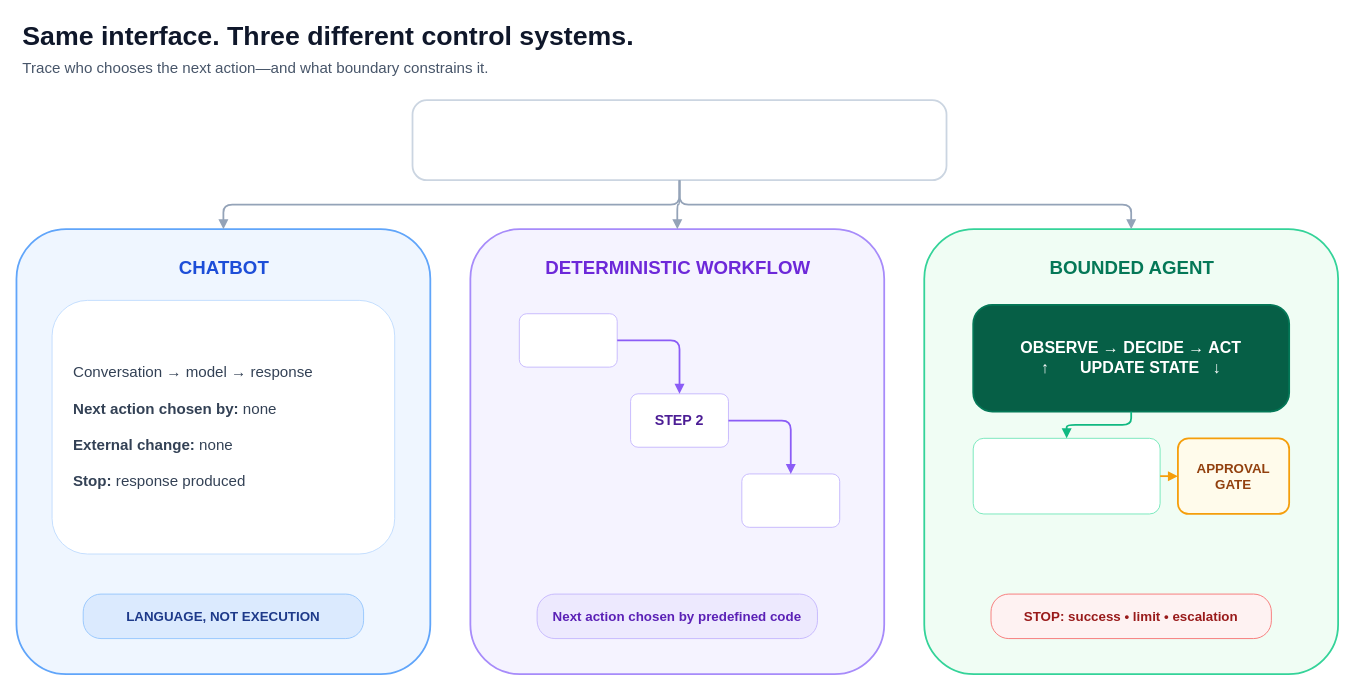
Some shapes in this 1354 by 690 pixel diagram are drawn without their labels. Here are the shapes that lost their labels. From the top down, the box of each, then its label:
(411, 99, 947, 181): CHAT INTERFACE The surface does not reveal control ownership
(518, 313, 617, 367): STEP 1
(972, 437, 1160, 514): ALLOWED TOOLS read • propose • request approval
(741, 473, 840, 527): STEP 3
